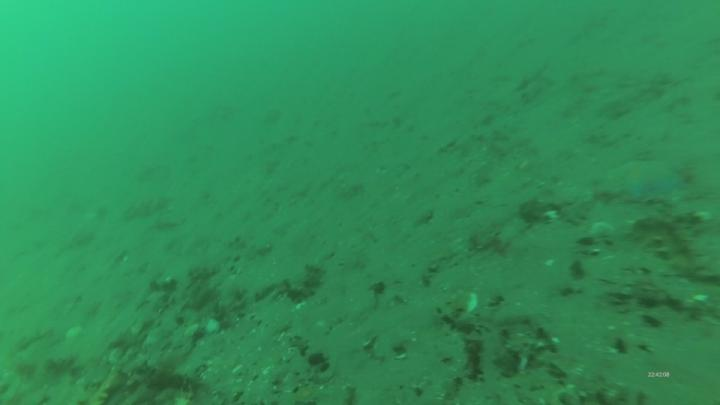holothurian: (84, 364, 126, 405)
starfish: (605, 157, 691, 203)
